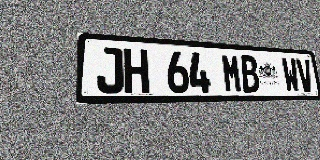4: (188, 52, 211, 93)
6: (166, 51, 190, 93)
B: (239, 55, 260, 93)
H: (124, 48, 149, 93)
J: (97, 46, 123, 94)
M: (221, 54, 243, 93)
V: (296, 58, 315, 92)
W: (281, 58, 300, 92)
